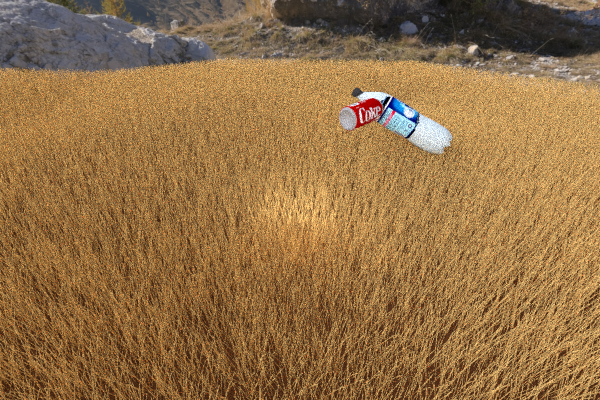Plastic Bottle: (350, 86, 451, 153), (0, 125, 37, 180)
